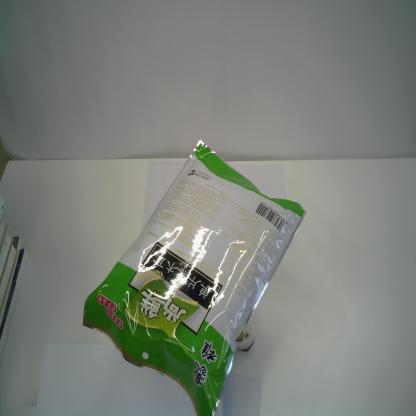Dried Food: (80, 134, 309, 416)
